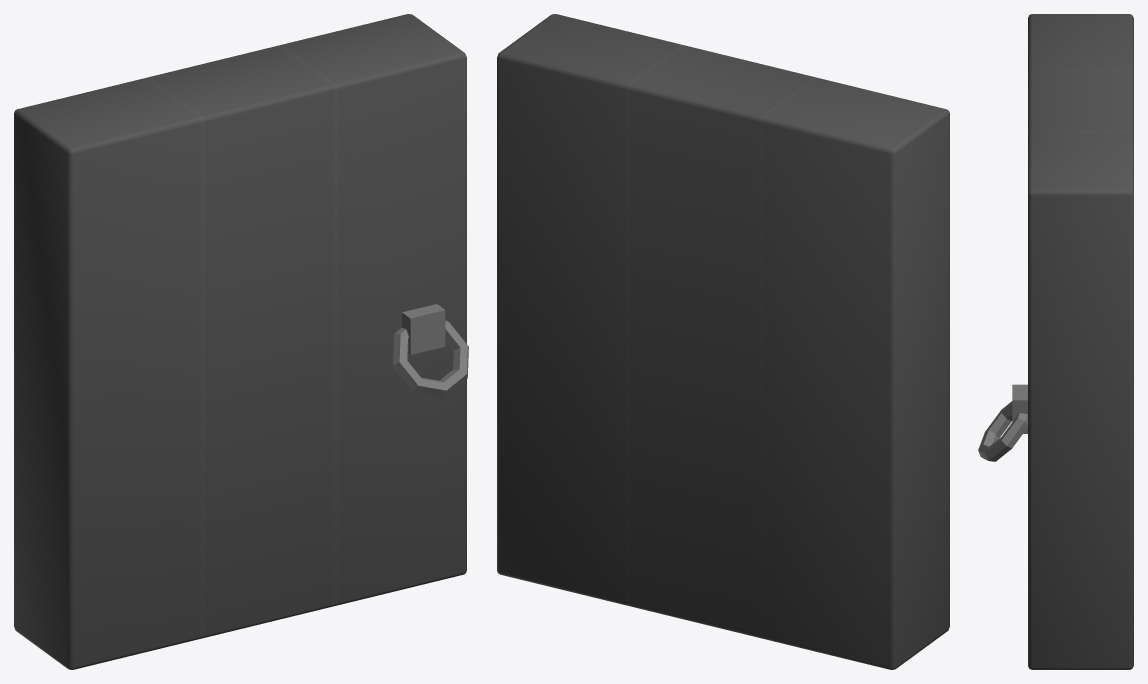
File: Door_05.fbx
3 renders of one model, left to right at view 1: azimuth 30°, elevation 25°; view 2: azimuth 150°, elevation 25°; view 3: azimuth 270°, elevation 25°, orthographic. The views are drawn at different scales.
Parts seen in each view (by area): view 1: Door_05; view 2: Door_05; view 3: Door_05.
Boxes of the visible parts, <box> form: Door_05: <box>14,14,468,669</box>; Door_05: <box>497,14,949,669</box>; Door_05: <box>978,14,1133,669</box>.
Size of the model in its own units: 1.6 by 2 by 0.5878.
